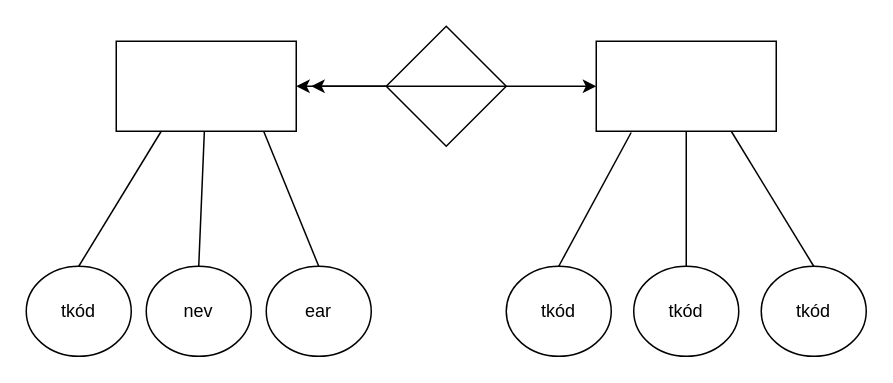
The diagram is 893 pixels wide and 383 high, and some of its shapes have lost their labels. The centre of each missing label's shape, as x and y in pixels:
Gyártók: point (685, 85)
Termékek: point (205, 85)
